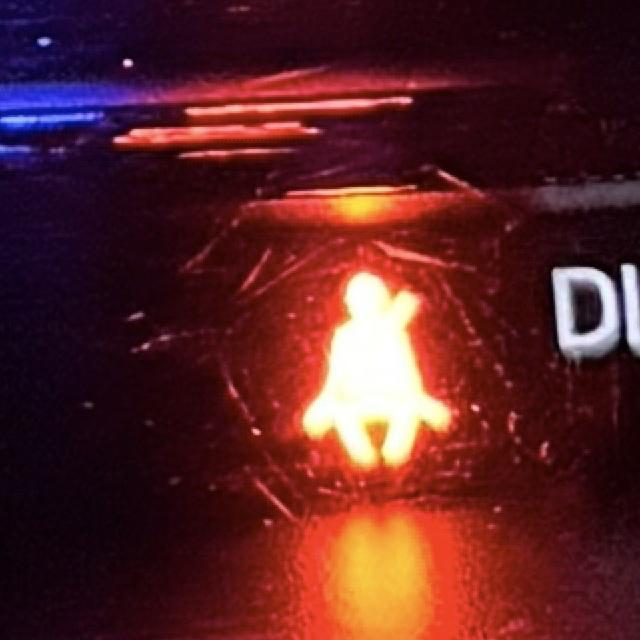Passenger Seatbelt Indicator: (296, 273, 456, 471)
